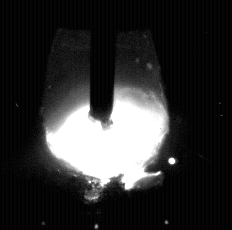arame: (91, 0, 116, 130)
poca: (46, 0, 166, 230)
